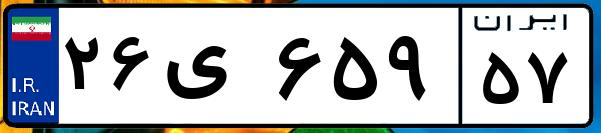2: (57, 26, 110, 100)
5: (330, 28, 385, 110), (475, 38, 525, 113)
6: (270, 28, 330, 110), (110, 28, 158, 98)
7: (525, 38, 570, 115)
9: (385, 28, 445, 110)
ی: (158, 20, 270, 120)
